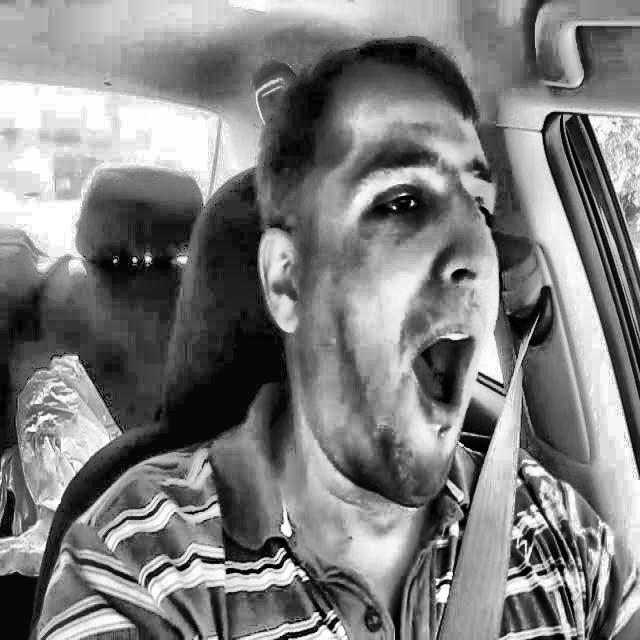open_eyes: (360, 178, 436, 237)
open_mouth: (391, 309, 490, 445)
